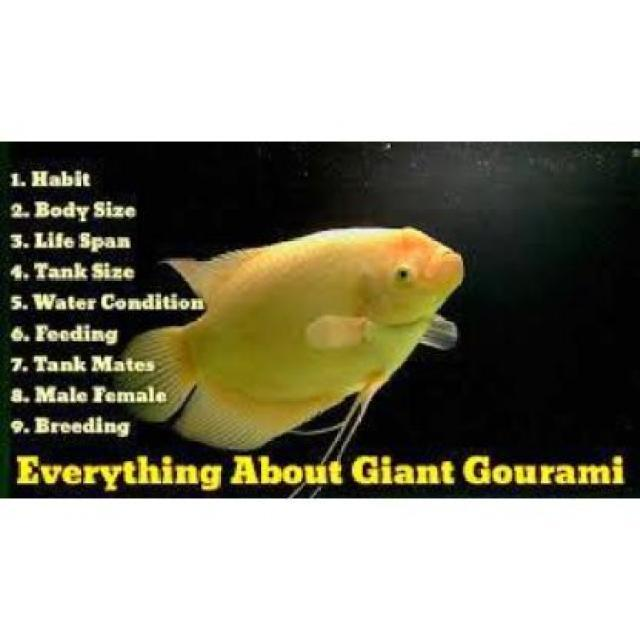gurame: (128, 218, 464, 444)
